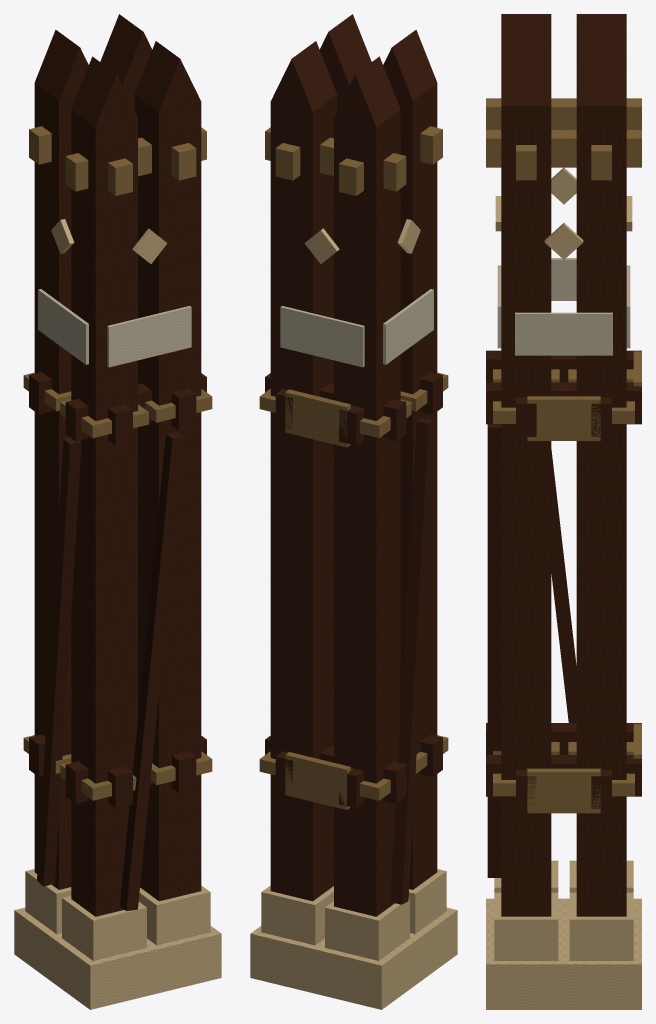
The model's file is Berber_PalisadeBastion_Age4_corner_90.fbx.
The picture shows the model from 3 angles, left to right: view 1: azimuth 30°, elevation 25°; view 2: azimuth 150°, elevation 25°; view 3: azimuth 270°, elevation 25°; orthographic projection. The views are drawn at different scales.
Parts seen in each view (by area): view 1: split_timber_upright.008, split_timber_upright.010, split_timber_upright.009, compacted_earth_footing.002, terminal_diagonal_stay.012, terminal_diagonal_stay.010, earth_post_socket.008, native_owner_stripe_source.010, earth_post_socket.010, split_timber_upright.011, native_owner_stripe_source.008, earth_post_socket.009 (+17 smaller); view 2: split_timber_upright.009, split_timber_upright.011, split_timber_upright.008, compacted_earth_footing.002, terminal_diagonal_stay.010, earth_post_socket.009, native_owner_stripe_source.011, earth_post_socket.011, exposed_wall_socket_collar.008, exposed_wall_socket_collar.009, split_timber_upright.010, native_owner_stripe_source.008 (+15 smaller); view 3: split_timber_upright.010, split_timber_upright.011, compacted_earth_footing.002, terminal_diagonal_stay.012, native_owner_stripe_source.009, earth_post_socket.010, earth_post_socket.011, exposed_wall_socket_collar.006, terminal_diagonal_stay.010, exposed_wall_socket_collar.007, locking_head_tie_y.005, locking_head_tie_y.004 (+19 smaller).
Part boxes in pixels (<box>): split_timber_upright.008: <box>71,56,137,916</box>; split_timber_upright.010: <box>134,41,201,901</box>; split_timber_upright.009: <box>34,30,88,889</box>; compacted_earth_footing.002: <box>14,907,221,1009</box>; terminal_diagonal_stay.012: <box>119,432,183,911</box>; terminal_diagonal_stay.010: <box>37,437,81,886</box>; earth_post_socket.008: <box>62,896,146,960</box>; native_owner_stripe_source.010: <box>107,306,191,367</box>; earth_post_socket.010: <box>138,885,210,945</box>; split_timber_upright.011: <box>100,14,152,109</box>; native_owner_stripe_source.008: <box>38,289,88,364</box>; earth_post_socket.009: <box>25,869,71,933</box>; split_timber_upright.009: <box>334,56,400,916</box>; split_timber_upright.011: <box>270,41,337,901</box>; split_timber_upright.008: <box>383,30,437,889</box>; compacted_earth_footing.002: <box>250,907,457,1009</box>; terminal_diagonal_stay.010: <box>390,417,434,904</box>; earth_post_socket.009: <box>325,898,409,960</box>; native_owner_stripe_source.011: <box>280,306,364,367</box>; earth_post_socket.011: <box>261,885,333,945</box>; exposed_wall_socket_collar.008: <box>285,752,350,809</box>; exposed_wall_socket_collar.009: <box>285,389,350,447</box>; split_timber_upright.010: <box>319,14,371,109</box>; native_owner_stripe_source.008: <box>383,289,433,364</box>; split_timber_upright.010: <box>501,46,551,916</box>; split_timber_upright.011: <box>576,46,626,916</box>; compacted_earth_footing.002: <box>486,898,641,1009</box>; terminal_diagonal_stay.012: <box>487,424,501,877</box>; native_owner_stripe_source.009: <box>515,312,612,355</box>; earth_post_socket.010: <box>494,892,558,960</box>; earth_post_socket.011: <box>569,892,633,960</box>; exposed_wall_socket_collar.006: <box>527,768,600,813</box>; terminal_diagonal_stay.010: <box>551,449,576,722</box>; exposed_wall_socket_collar.007: <box>527,396,600,440</box>; locking_head_tie_y.005: <box>486,130,641,167</box>; locking_head_tie_y.004: <box>486,98,641,129</box>.
Size of the model in its own units: 68.29 by 458 by 68.29.
Materials: 4 (4 with a texture image).
